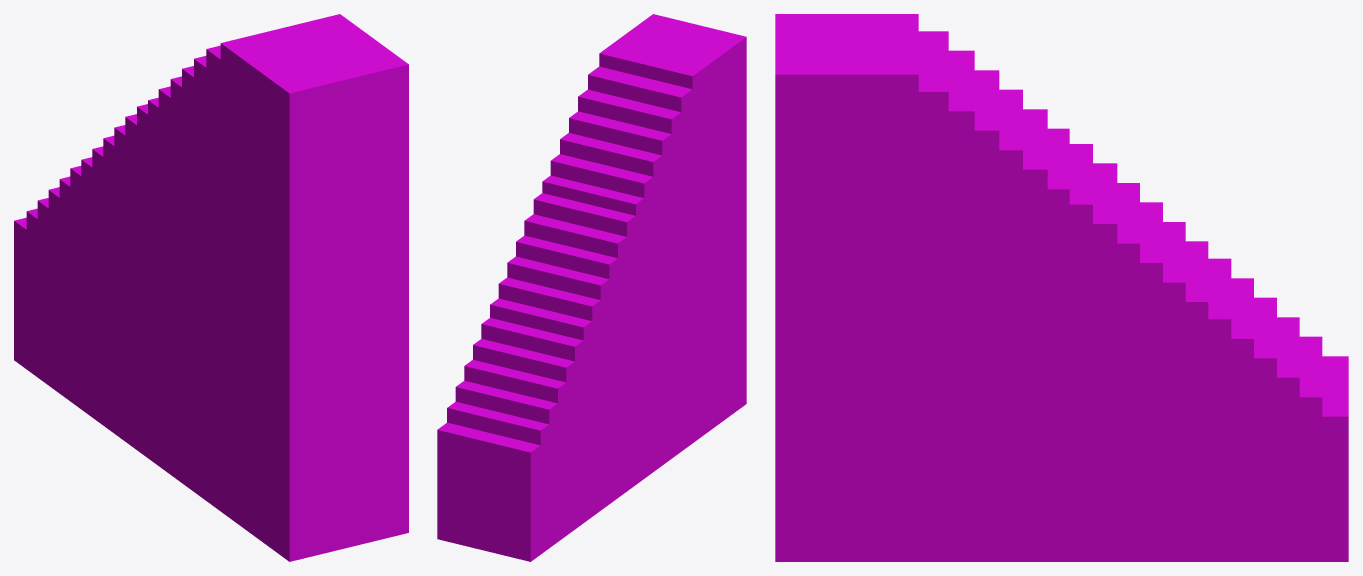
The model's file is SM_Stairs_400_100.fbx.
The picture shows the model from 3 angles, left to right: view 1: azimuth 30°, elevation 25°; view 2: azimuth 150°, elevation 25°; view 3: azimuth 270°, elevation 25°; orthographic projection. The views are drawn at different scales.
Parts seen in each view (by area): view 1: pasted__pCube46; view 2: pasted__pCube46; view 3: pasted__pCube46.
Part boxes in pixels (bbox=[...]): pasted__pCube46: bbox=[14, 14, 408, 561]; pasted__pCube46: bbox=[437, 14, 746, 561]; pasted__pCube46: bbox=[775, 14, 1348, 561].
Size of the model in its own units: 1 by 3.75 by 4.
